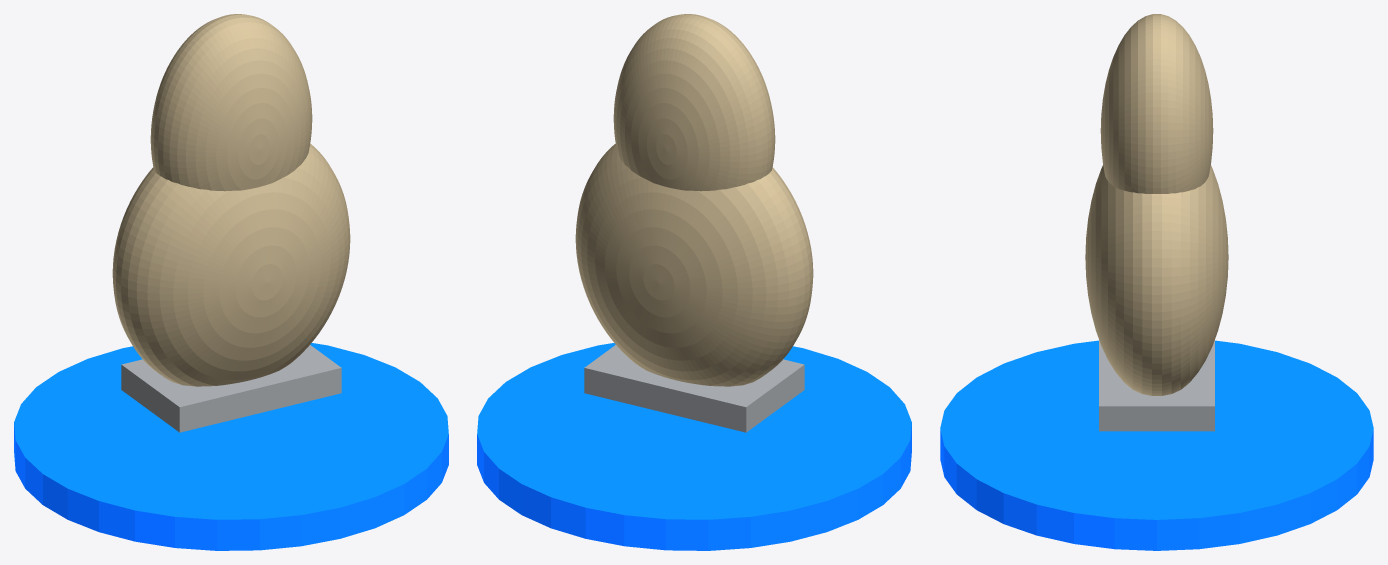
Rendered from french_dress_form.dae.
3 views of the same model, side by side, from view 1: azimuth 30°, elevation 25°; view 2: azimuth 150°, elevation 25°; view 3: azimuth 270°, elevation 25° (orthographic).
Visible parts, largest first — view 1: 10_17_Popular_French_Dress_Form_ROOT_base, 10_17_Popular_French_Dress_Form_part_02, 10_17_Popular_French_Dress_Form_part_01, 10_17_Popular_French_Dress_Form_part_04; view 2: 10_17_Popular_French_Dress_Form_ROOT_base, 10_17_Popular_French_Dress_Form_part_02, 10_17_Popular_French_Dress_Form_part_01, 10_17_Popular_French_Dress_Form_part_04; view 3: 10_17_Popular_French_Dress_Form_ROOT_base, 10_17_Popular_French_Dress_Form_part_02, 10_17_Popular_French_Dress_Form_part_01, 10_17_Popular_French_Dress_Form_part_04.
Part boxes in pixels (x1=…): 10_17_Popular_French_Dress_Form_ROOT_base: x1=14, y1=343, x2=448, y2=550; 10_17_Popular_French_Dress_Form_part_02: x1=112, y1=144, x2=350, y2=386; 10_17_Popular_French_Dress_Form_part_01: x1=150, y1=14, x2=312, y2=191; 10_17_Popular_French_Dress_Form_part_04: x1=121, y1=345, x2=341, y2=432; 10_17_Popular_French_Dress_Form_ROOT_base: x1=477, y1=343, x2=911, y2=550; 10_17_Popular_French_Dress_Form_part_02: x1=575, y1=144, x2=813, y2=386; 10_17_Popular_French_Dress_Form_part_01: x1=613, y1=14, x2=775, y2=191; 10_17_Popular_French_Dress_Form_part_04: x1=584, y1=345, x2=804, y2=432; 10_17_Popular_French_Dress_Form_ROOT_base: x1=940, y1=340, x2=1373, y2=550; 10_17_Popular_French_Dress_Form_part_02: x1=1085, y1=165, x2=1228, y2=395; 10_17_Popular_French_Dress_Form_part_01: x1=1100, y1=14, x2=1213, y2=193; 10_17_Popular_French_Dress_Form_part_04: x1=1099, y1=340, x2=1214, y2=431.
Size of the model in its own units: 0.76 by 0.85 by 0.76.
